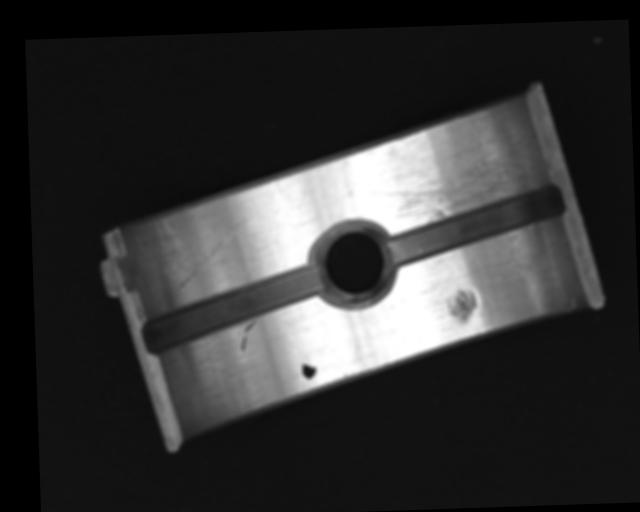blot: (301, 356, 317, 380)
bruise: (445, 286, 478, 324)
gap: (141, 266, 323, 355), (382, 185, 566, 266)
hole: (313, 219, 395, 306)
nick: (170, 215, 249, 293), (239, 318, 257, 353)
scratch: (361, 131, 553, 226)
